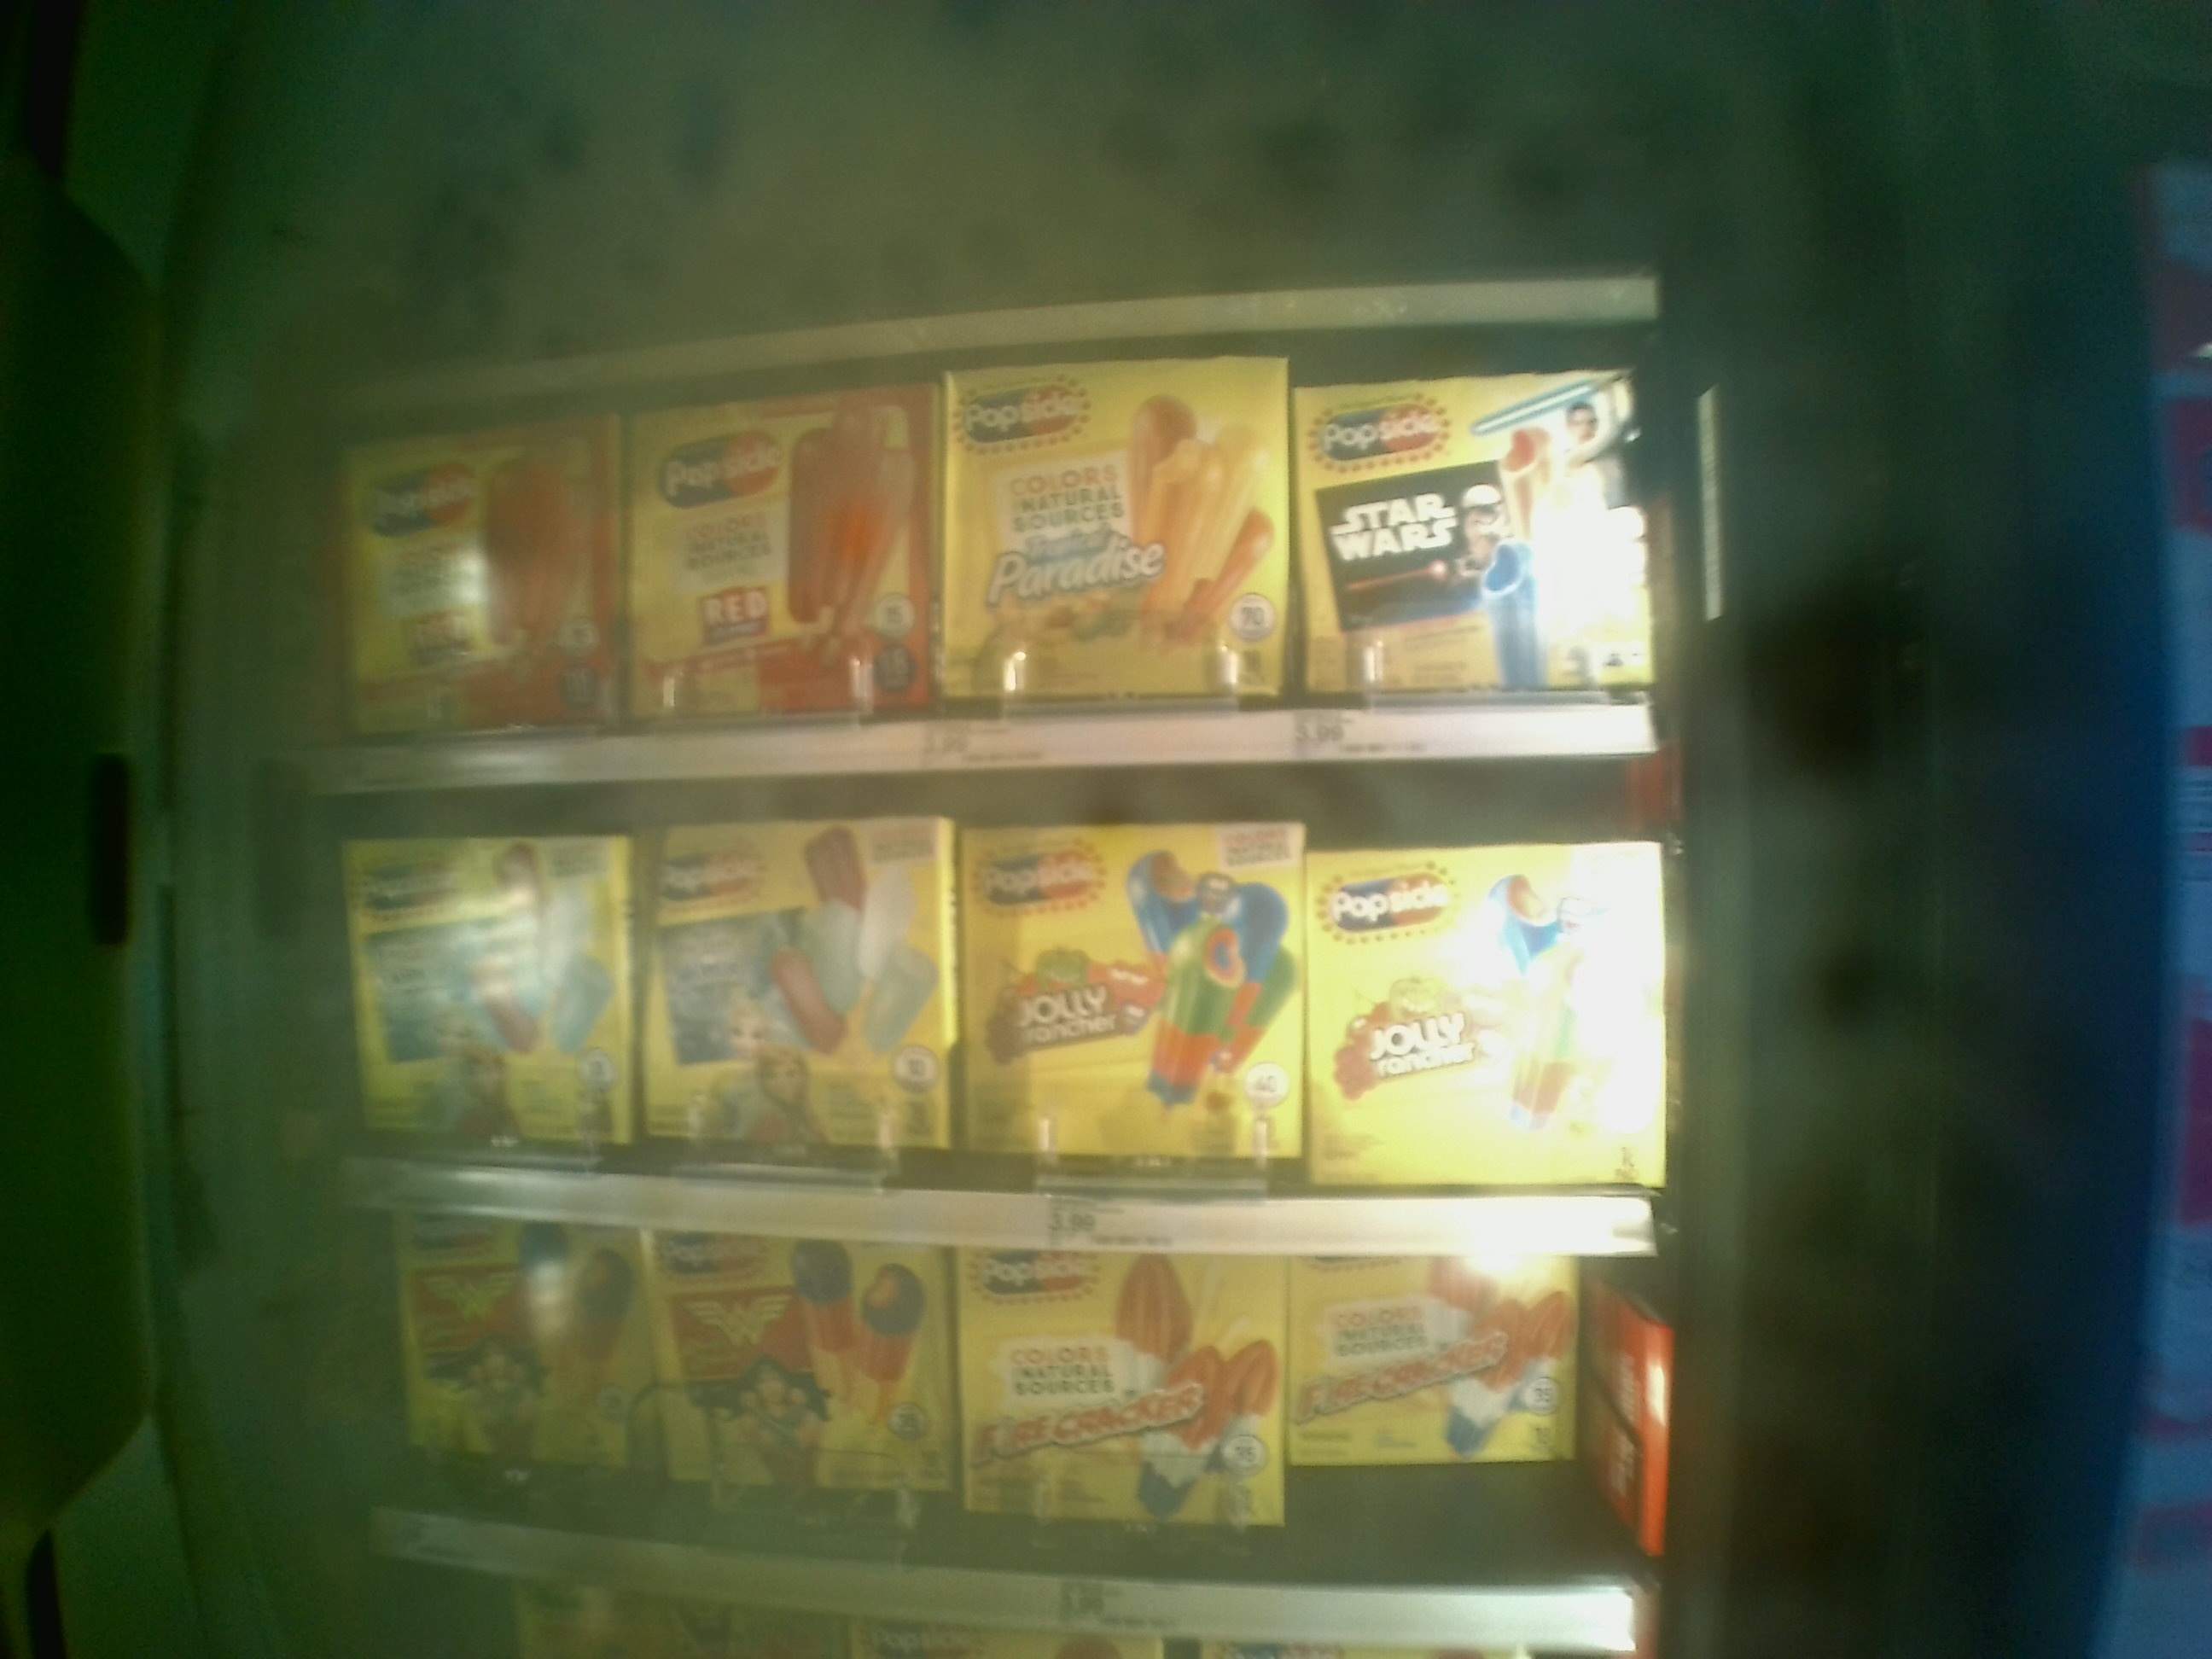frozen-food-shelf: (326, 807, 1670, 1249), (327, 406, 1639, 793)
